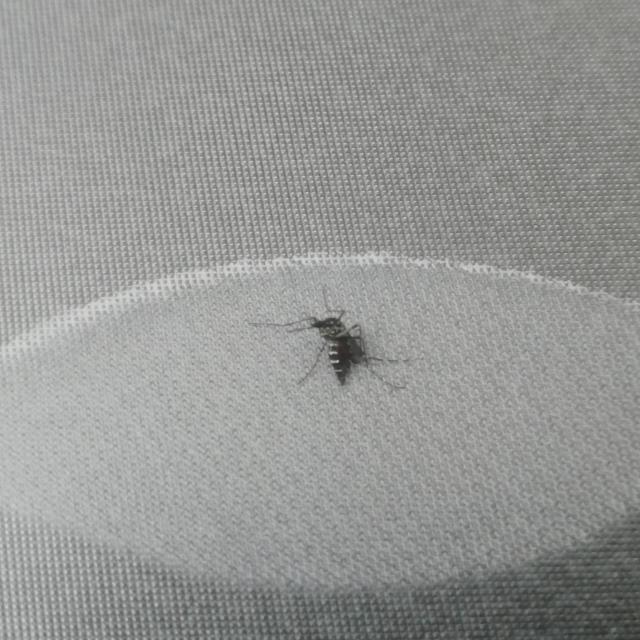albopictus: (243, 296, 414, 393)
